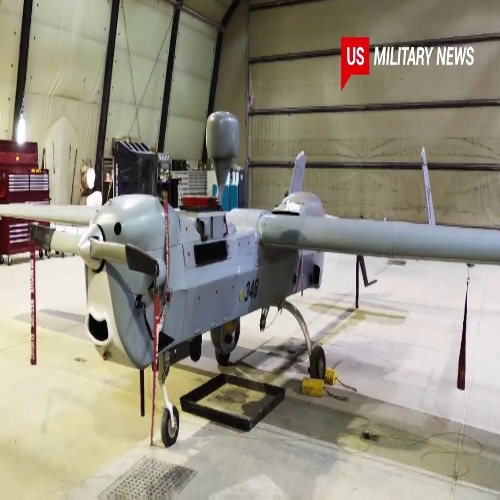uav: (2, 114, 500, 444)
